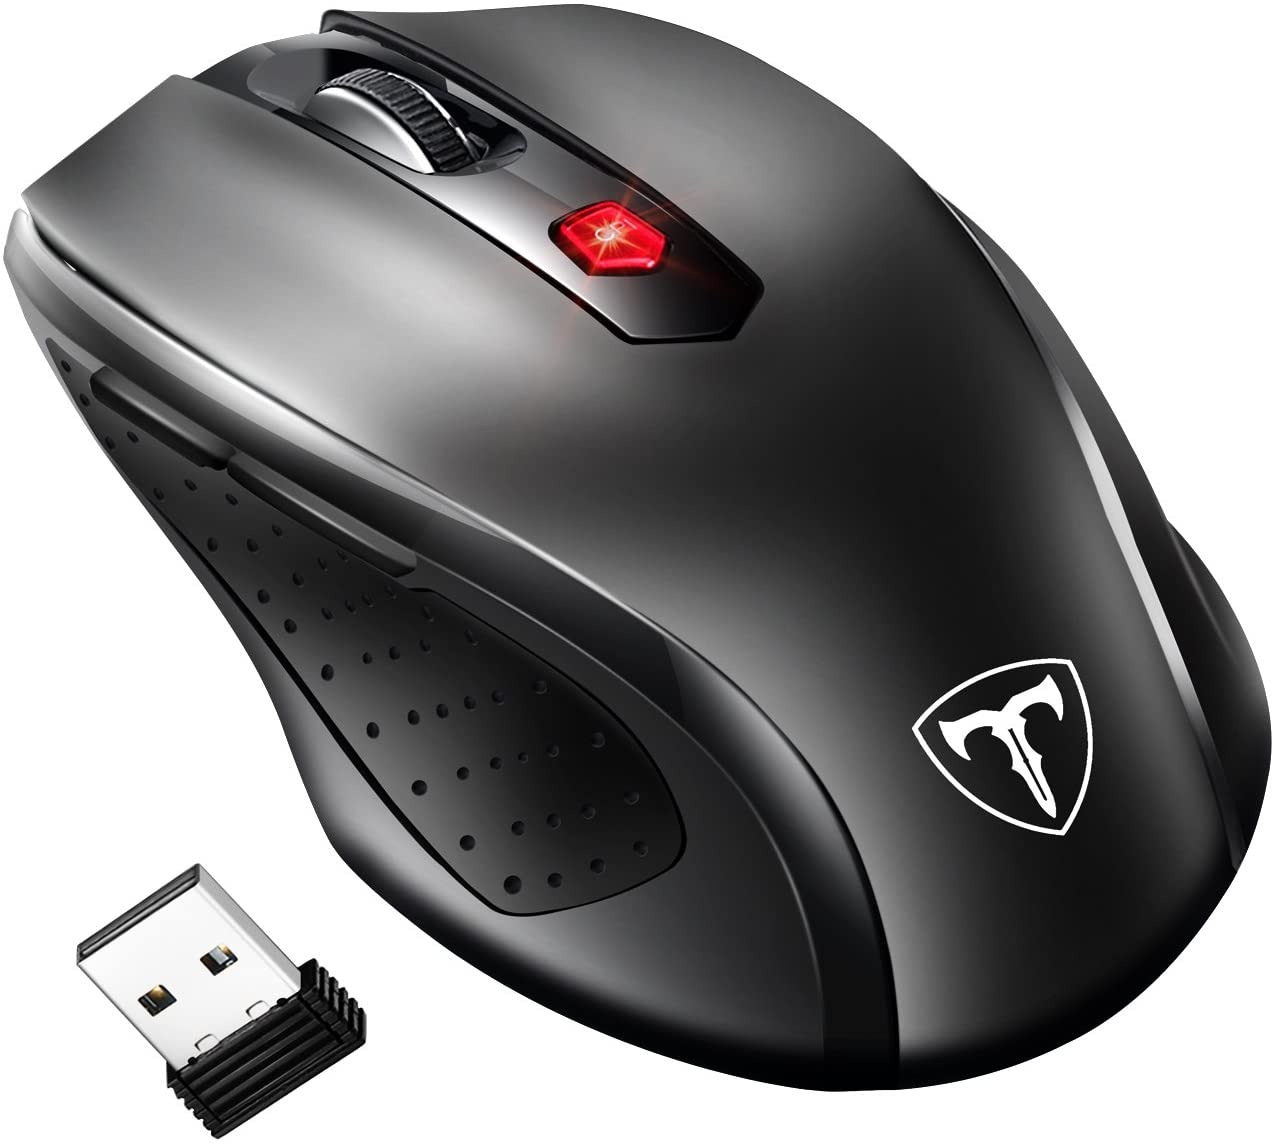mouse: (2, 6, 1273, 1092)
